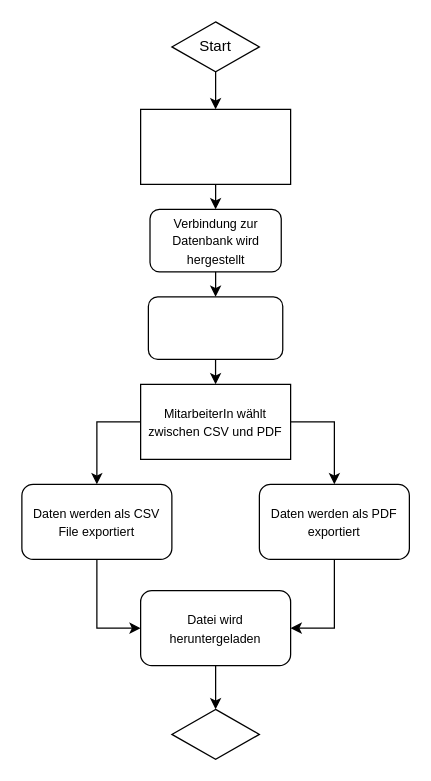
Some shapes in this 431 by 781 pixel diagram are drawn without their labels. The shapes that lost their labels are listed below. From the top down, each one's box as (x1, y1, x2, y2) in pixels, then its label:
(139, 108, 291, 184): MitarbeiterIn initiiert Datenexport
(147, 296, 283, 359): Daten werden mittels SQL-Abfrage ausgelesen
(171, 708, 259, 759): Ende
